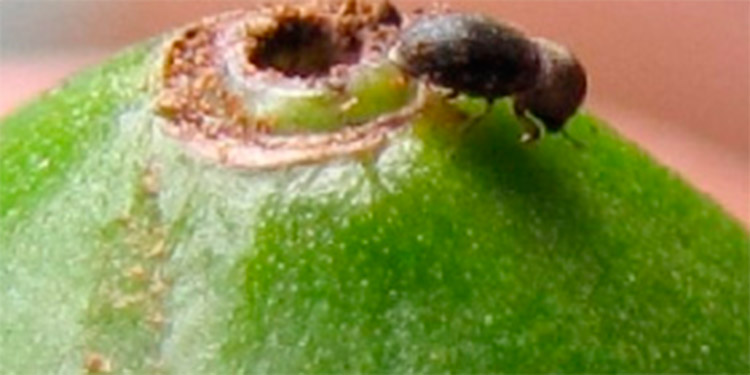broca de cafe: (112, 1, 670, 334)
